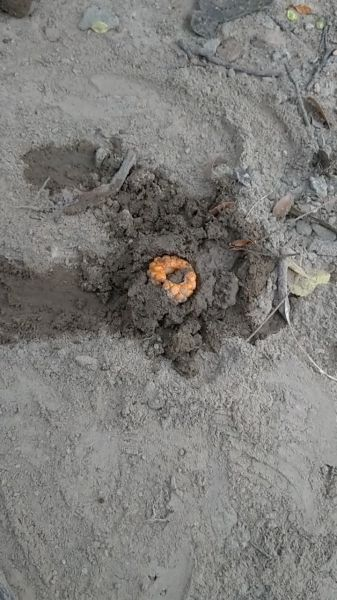eggs: (136, 243, 208, 309)
